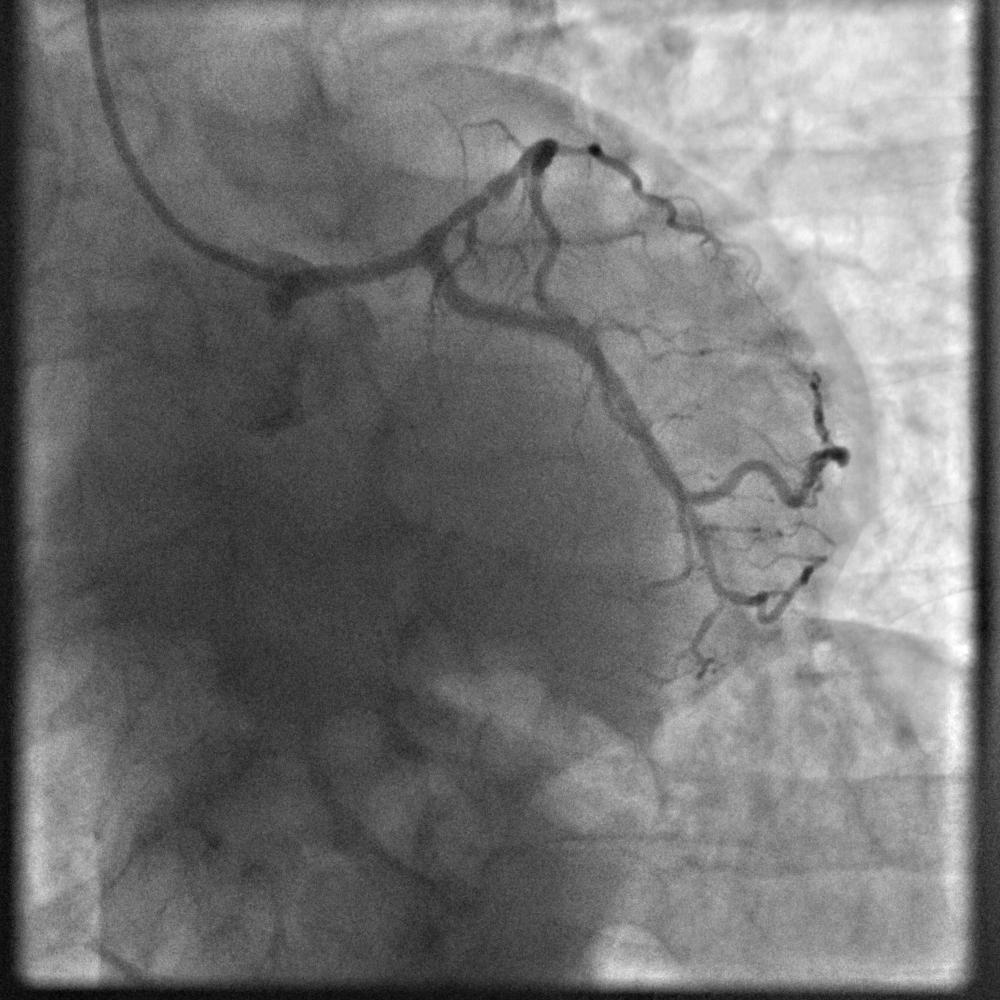Stenosis: (477, 186, 498, 206)
